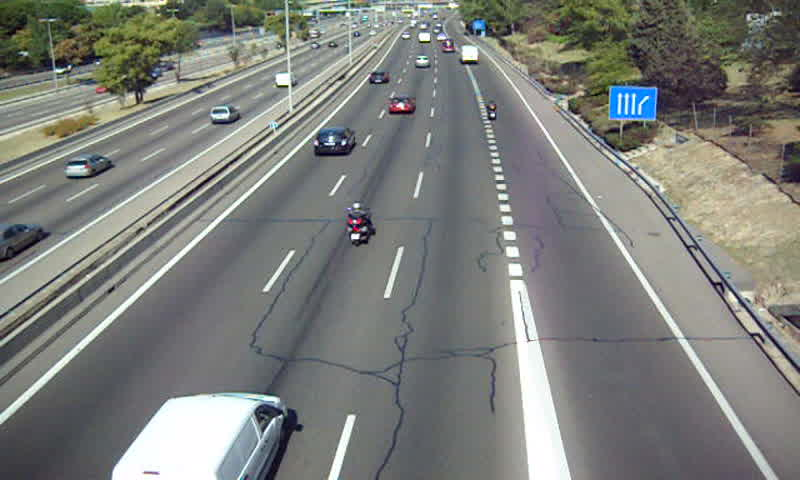car: (311, 127, 356, 155), (387, 96, 415, 114), (367, 70, 390, 84), (413, 54, 429, 68)
motorcycle: (344, 202, 373, 247), (486, 98, 498, 122)
van: (114, 393, 285, 479), (460, 44, 480, 63)
